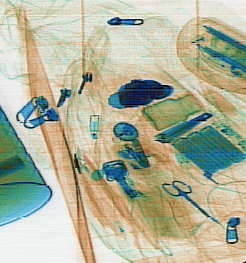powerbank: (169, 114, 244, 178)
scissors: (160, 178, 224, 225)
